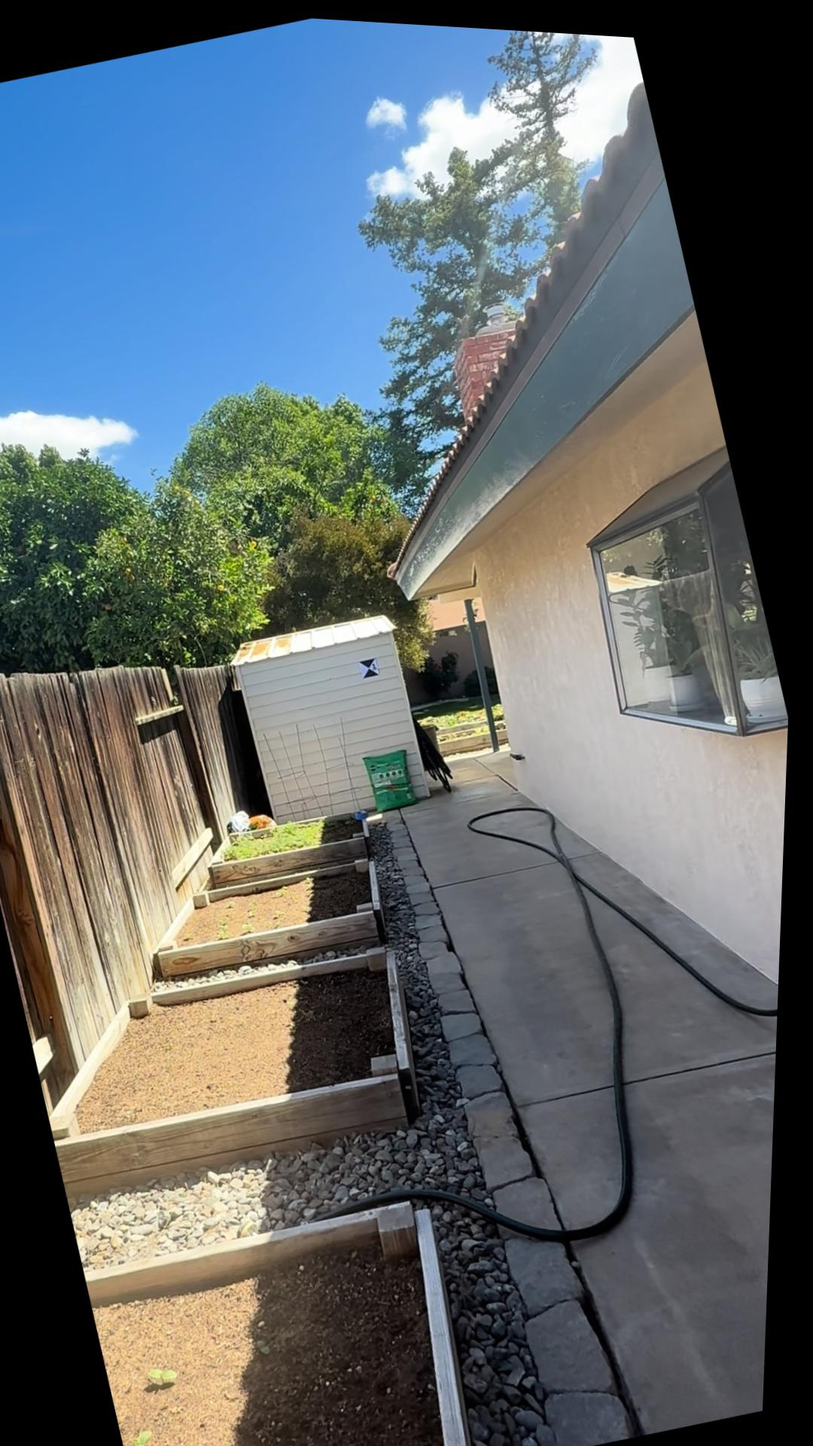target1: (357, 655, 382, 682)
